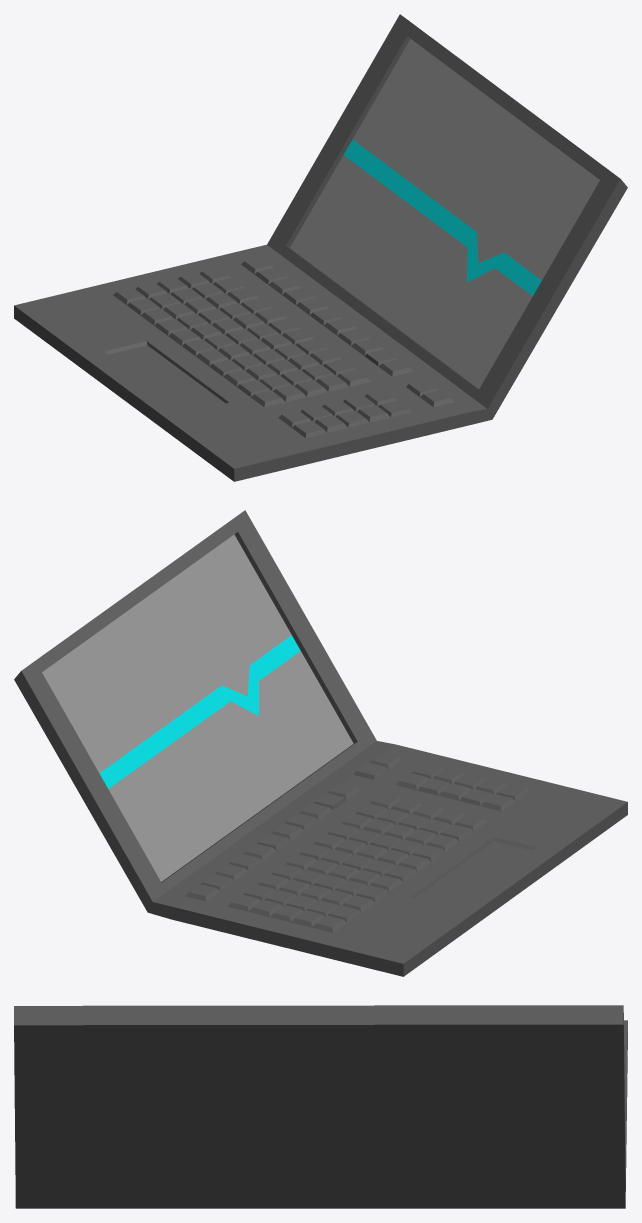
The model's file is laptop.fbx.
3 renders of one model, top to bottom at view 1: azimuth 30°, elevation 25°; view 2: azimuth 150°, elevation 25°; view 3: azimuth 270°, elevation 25°, orthographic. The views are drawn at different scales.
Visible parts, largest first — view 1: Cube.001; view 2: Cube.001; view 3: Cube.001.
Boxes of the visible parts, box(x1,y1,x2,y2) form: Cube.001: box(14, 14, 627, 481); Cube.001: box(14, 510, 627, 976); Cube.001: box(14, 1005, 627, 1208).
Bounding box in the file's own units: 0.6852 × 0.3518 × 0.6749.
